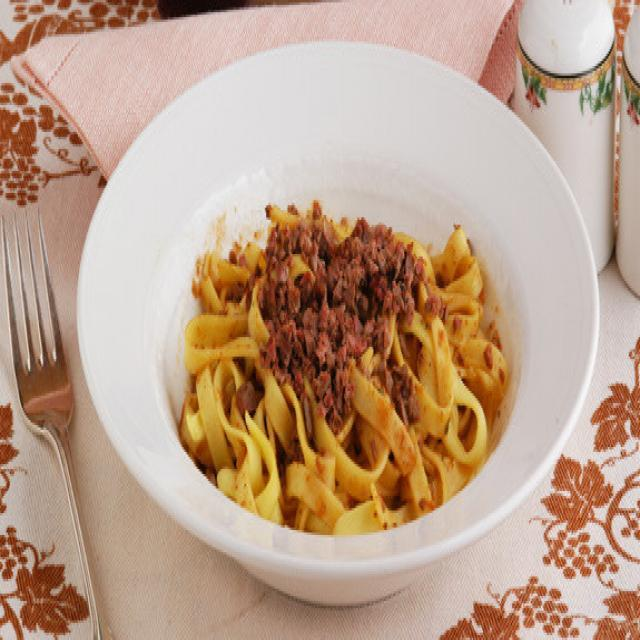Pasta al ragu: (165, 174, 528, 521)
